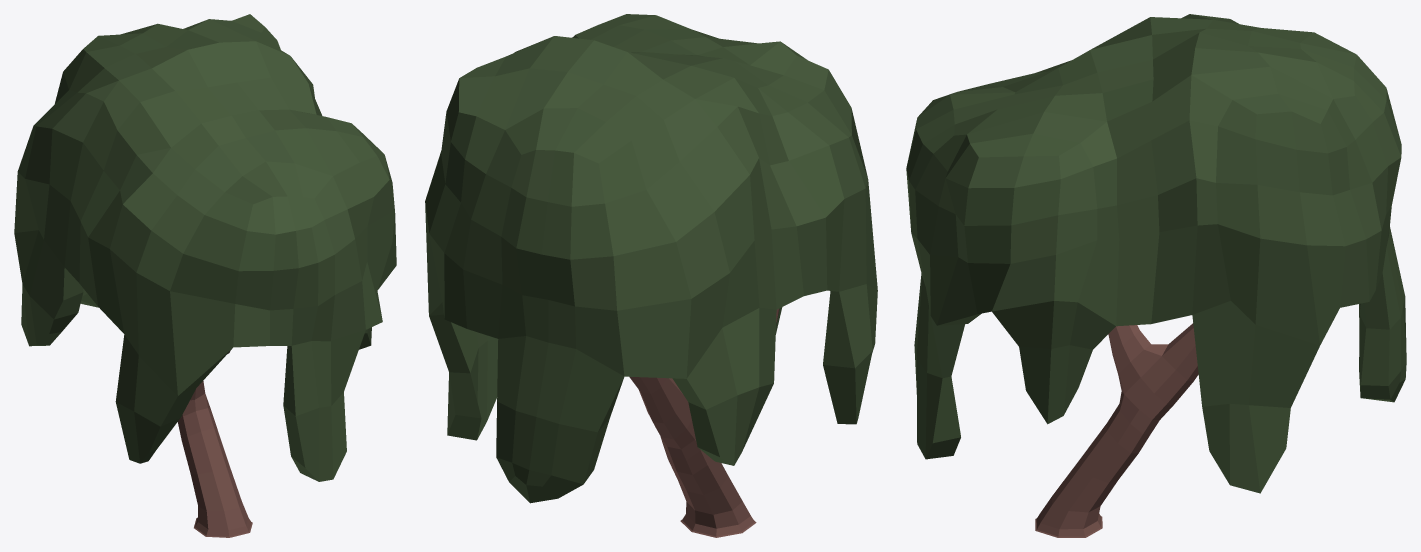
Rendered from Willow_4.glb.
The picture shows the model from 3 angles, left to right: view 1: azimuth 30°, elevation 25°; view 2: azimuth 150°, elevation 25°; view 3: azimuth 270°, elevation 25°; orthographic projection. The views are drawn at different scales.
Visible parts, largest first — view 1: Willow_4; view 2: Willow_4; view 3: Willow_4.
Boxes of the visible parts, x1,y1,x2,y2 form: Willow_4: [14, 14, 396, 537]; Willow_4: [425, 14, 877, 537]; Willow_4: [906, 14, 1406, 537].
Bounding box in the file's own units: 2.19 × 3.39 × 3.04.
